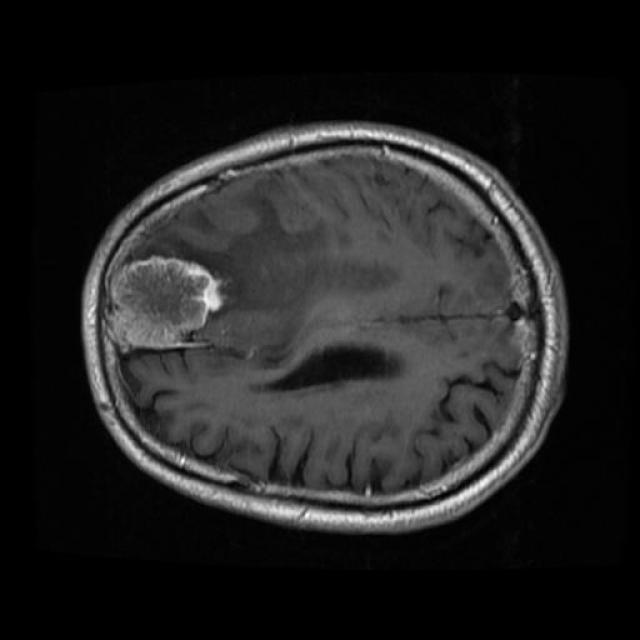Meningioma: (106, 256, 222, 354)
